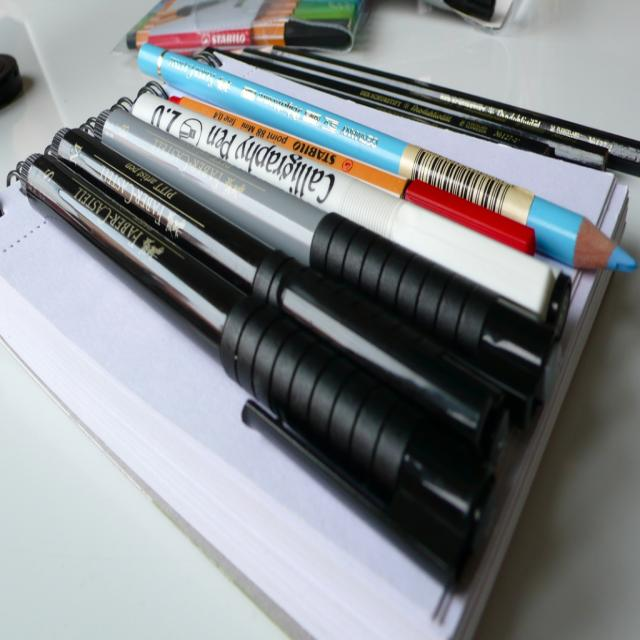pen: (17, 88, 574, 600), (124, 0, 373, 49)
